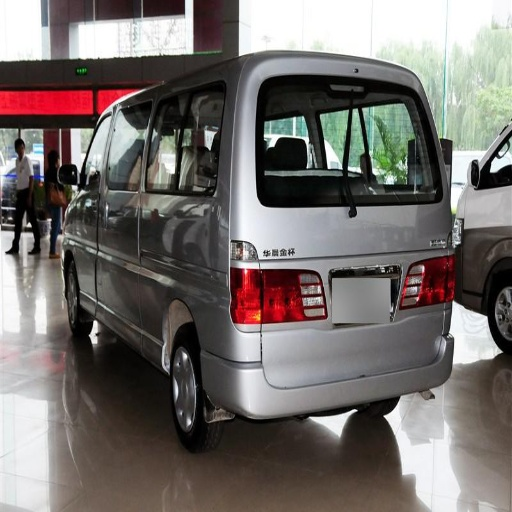back_bumper: (205, 301, 453, 420)
back_glass: (253, 133, 428, 206), (156, 85, 224, 191)
back_left_light: (228, 243, 262, 327)
tailgate: (374, 263, 409, 316)
trunk: (257, 207, 444, 376), (97, 159, 248, 356)
